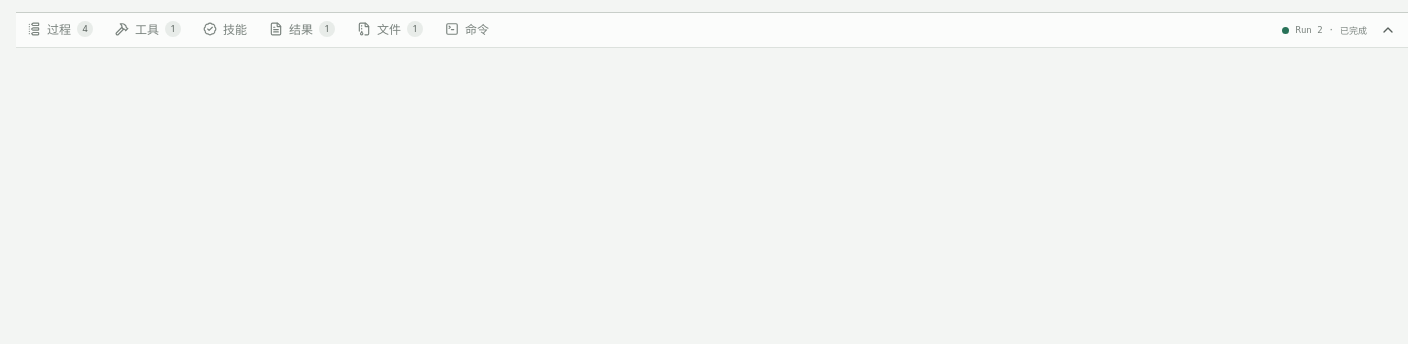
RunDrawer › keeps adoption disabled when the recovery dossier has no persisted candidate
Click the tab "结果 1".
click(302, 30)  # box [258,13,346,47]
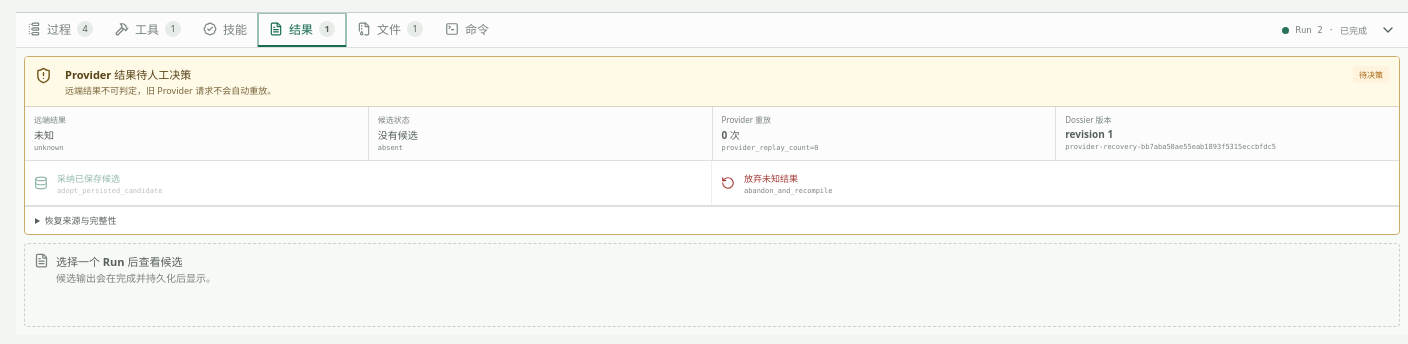
Expected: the text "没有候选" is shown, [378,128,418,142]
Expected: the text "absent" is shown, [378,144,403,152]
Expected: the button "采纳已保存候选 adopt_persisted_candidate" is disabled, [25,162,712,206]
